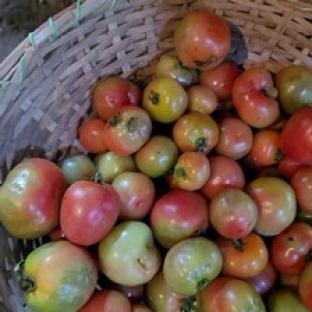Tomato: (20, 240, 97, 311), (0, 158, 66, 239), (98, 221, 161, 285), (60, 180, 121, 246), (163, 237, 222, 295), (151, 189, 208, 247), (175, 10, 231, 69), (246, 176, 296, 236), (233, 69, 279, 128), (197, 276, 266, 311), (216, 232, 268, 278), (209, 189, 257, 238), (105, 106, 151, 155), (92, 76, 142, 119), (271, 222, 311, 274), (143, 77, 188, 123), (112, 172, 155, 220), (200, 155, 245, 200), (173, 112, 218, 154), (134, 136, 179, 178), (280, 108, 311, 165), (275, 65, 311, 114), (215, 116, 253, 160), (145, 271, 185, 311), (200, 60, 239, 101), (155, 53, 199, 87), (173, 152, 210, 190), (247, 130, 282, 168), (94, 151, 136, 182), (78, 289, 132, 311), (246, 260, 279, 296), (59, 154, 96, 185), (78, 117, 107, 153), (290, 166, 311, 213), (268, 287, 309, 311), (187, 84, 218, 114), (278, 155, 305, 179), (299, 261, 311, 310), (131, 303, 153, 311)
